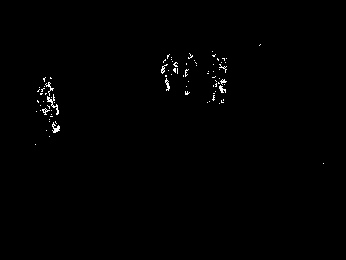person: (36, 73, 64, 137), (161, 51, 180, 93)
